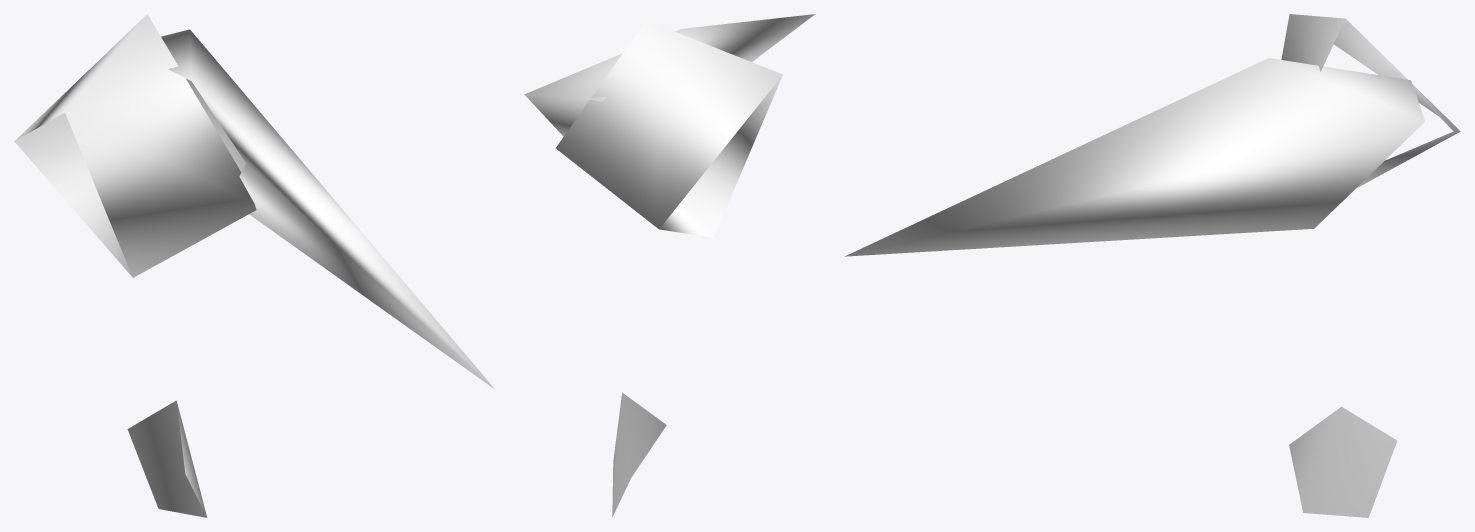
3 views of the same model, side by side, from view 1: azimuth 30°, elevation 25°; view 2: azimuth 150°, elevation 25°; view 3: azimuth 270°, elevation 25° (orthographic). The views are drawn at different scales.
Size of the model in its own units: 0.058 by 0.1422 by 0.1627.
1 material, 1 textured.
